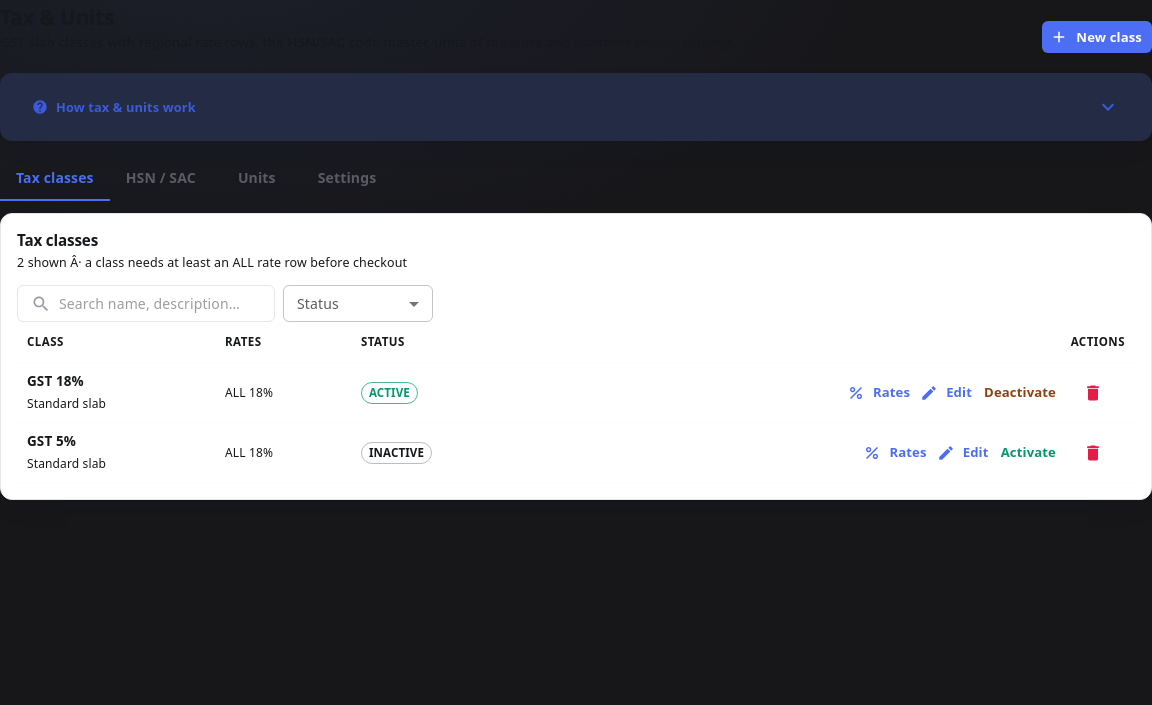
Test: TaxAdminView (admin) › switches to the Settings tab and shows the loaded rounding mode
Step 1. Click the tab "Settings" → (347, 178), box [302,154,392,202]
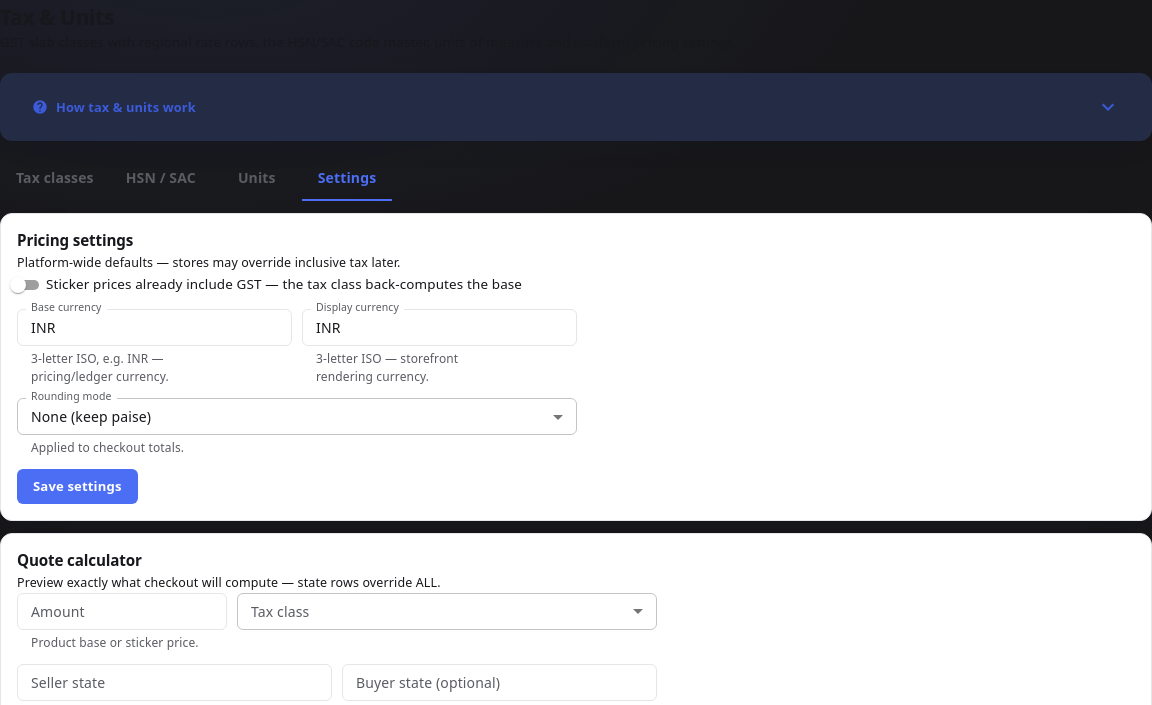
expect the heading "Pricing settings" is shown: met, box [17,230,133,250]
expect the number of fields showing "INR" is 2: met, box [17,309,292,346]; [302,309,577,346]
expect the dropdown "None (keep paise)" is shown: met, box [31,407,151,426]
